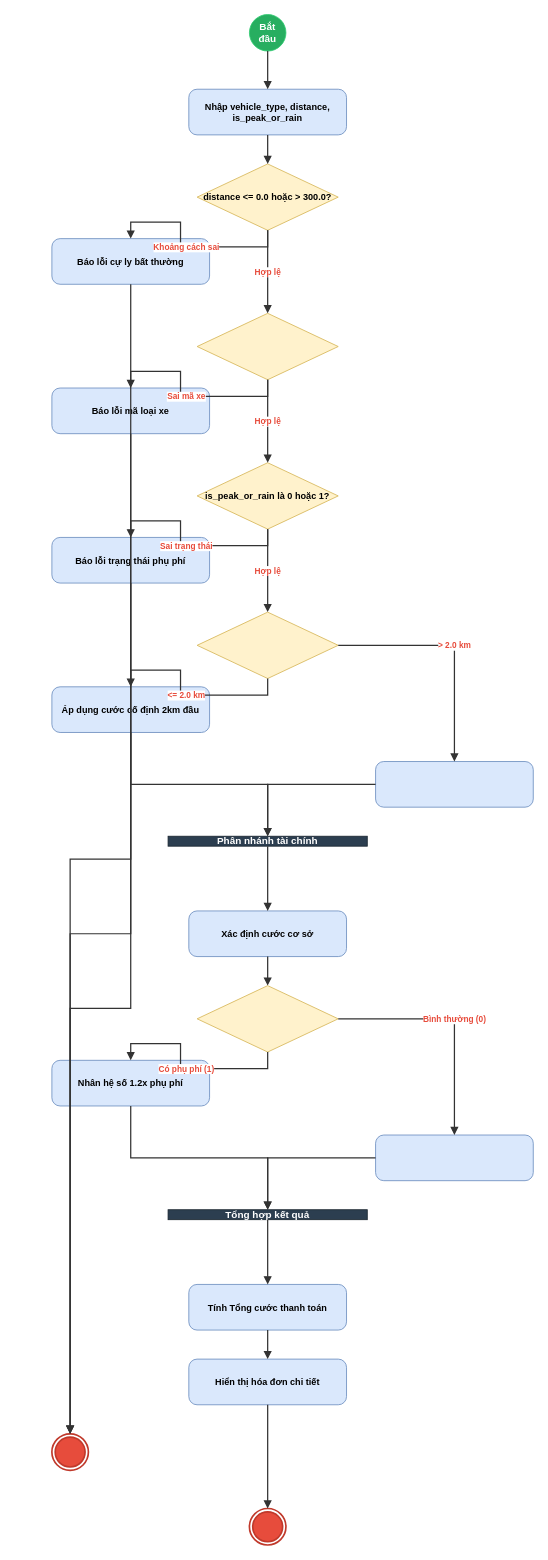
Some shapes in this 548 by 1560 pixel diagram are drawn without their labels. The box of each missing label's shape, as (x1, y1, x2, y2) in pixels:
distance <= 2.0 km?: (196, 611, 338, 679)
is_peak_or_rain == 1?: (196, 985, 338, 1052)
Kết thúc: Hủy giao dịch: (51, 1433, 89, 1471)
Kết thúc: Thành công: (248, 1507, 286, 1545)
Phụ phí bằng 0 VNĐ: (375, 1134, 533, 1181)
Tính cước cơ sở theo km vượt: (375, 761, 533, 807)
vehicle_type là 1 hoặc 2?: (196, 312, 338, 380)
